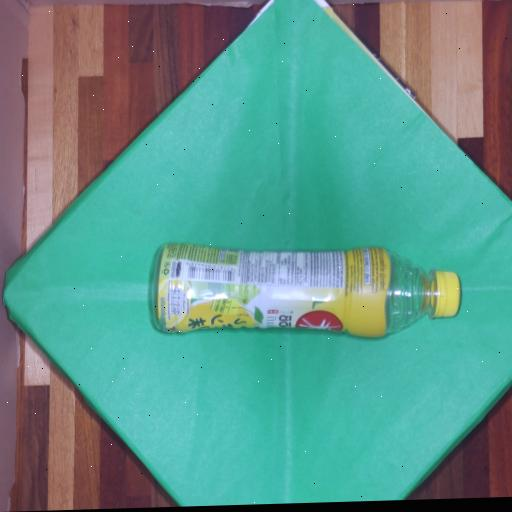bottle: (152, 244, 459, 337)
